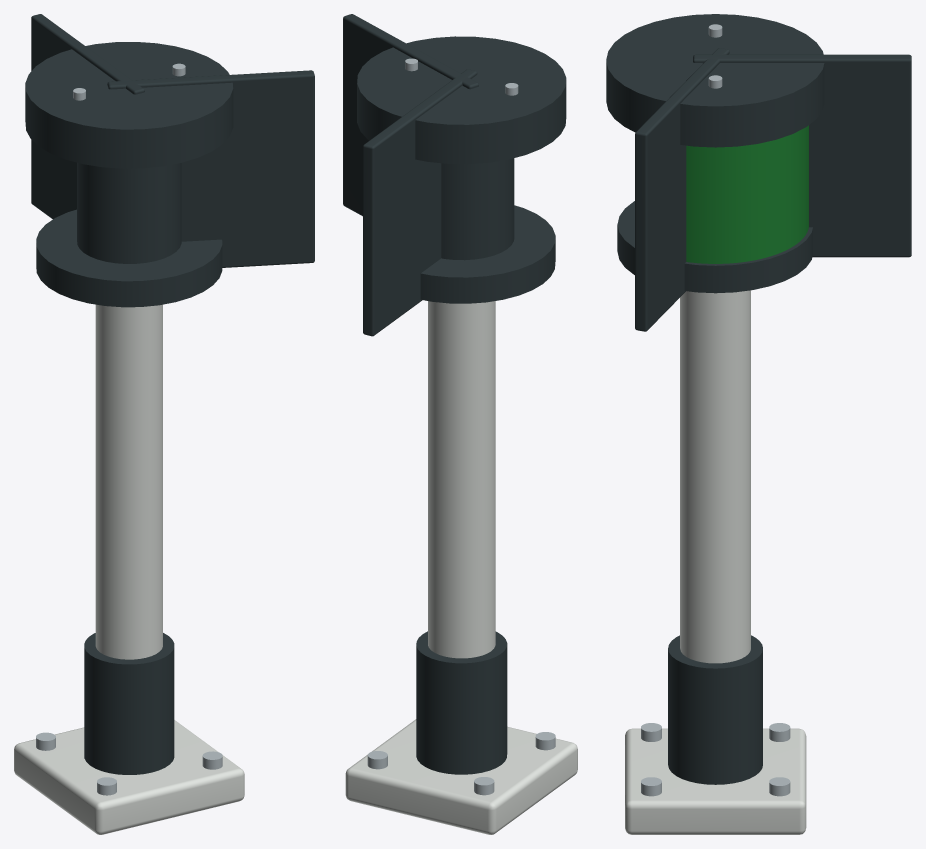
The model's file is nav_starboard.glb.
3 views of the same model, side by side, from view 1: azimuth 30°, elevation 25°; view 2: azimuth 150°, elevation 25°; view 3: azimuth 270°, elevation 25° (orthographic). The views are drawn at different scales.
Visible parts, largest first — view 1: Tubular standard, Screen.001, Lantern cap, Welded mounting pad, Base collar, Lantern lower rim, Rear housing, Screen; view 2: Tubular standard, Lantern cap, Screen, Welded mounting pad, Base collar, Lantern lower rim, Rear housing, Screen.001; view 3: Tubular standard, Lantern cap, Screen, Lens, Welded mounting pad, Base collar, Screen.001, Lantern lower rim.
Boxes of the visible parts, x1,y1,x2,y2 form: Tubular standard: (95, 304, 162, 659); Screen.001: (107, 70, 314, 267); Lantern cap: (25, 42, 233, 168); Welded mounting pad: (14, 720, 244, 834); Base collar: (84, 633, 174, 774); Lantern lower rim: (36, 209, 222, 307); Rear housing: (77, 162, 181, 263); Screen: (31, 14, 144, 218); Tubular standard: (428, 301, 495, 658); Lantern cap: (357, 36, 566, 164); Screen: (363, 69, 477, 336); Welded mounting pad: (345, 719, 577, 834); Base collar: (416, 631, 507, 774); Lantern lower rim: (420, 205, 555, 303); Rear housing: (441, 158, 514, 260); Screen.001: (343, 14, 478, 216); Tubular standard: (680, 290, 750, 663); Lantern cap: (606, 14, 824, 147); Screen: (693, 54, 911, 257); Lens: (686, 125, 808, 263); Welded mounting pad: (625, 728, 806, 834); Base collar: (668, 635, 762, 784); Screen.001: (635, 48, 729, 331); Lantern lower rim: (617, 201, 812, 293).
Bounding box in the file's own units: 0.3876 × 1.09 × 0.405.
